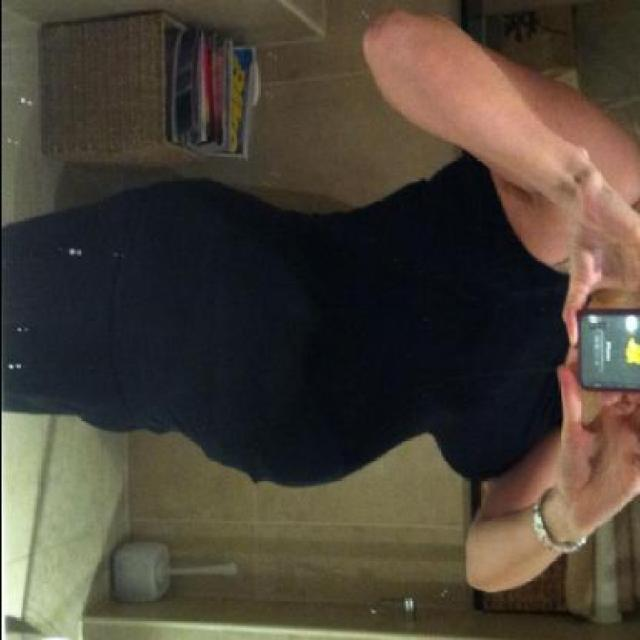phone: (572, 296, 630, 382)
